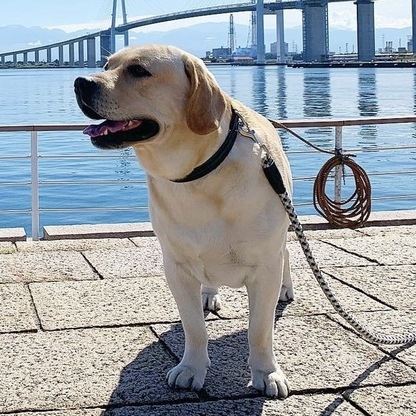labrado: (72, 42, 299, 401)
